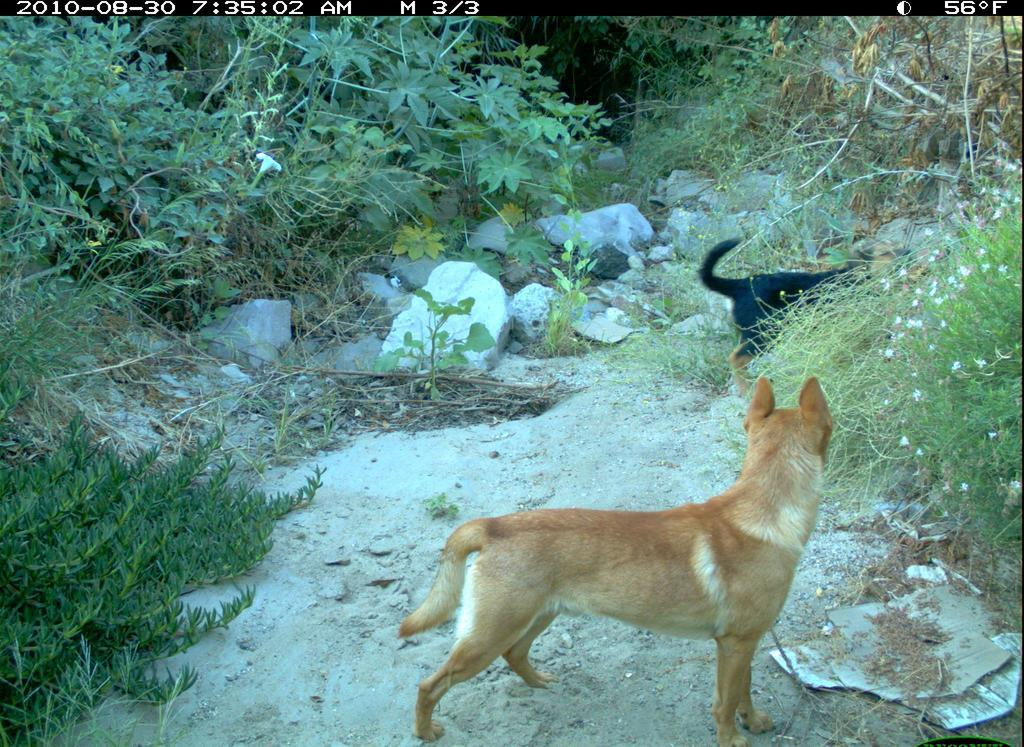dog: (392, 370, 841, 747), (690, 226, 977, 399)
